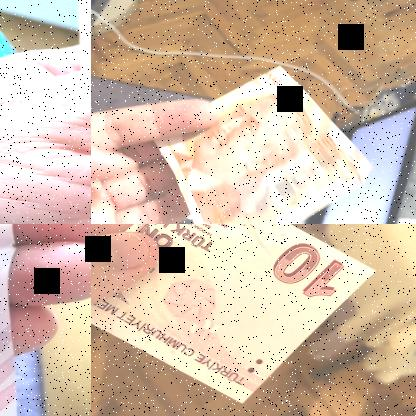5 TL: (148, 65, 370, 223)
